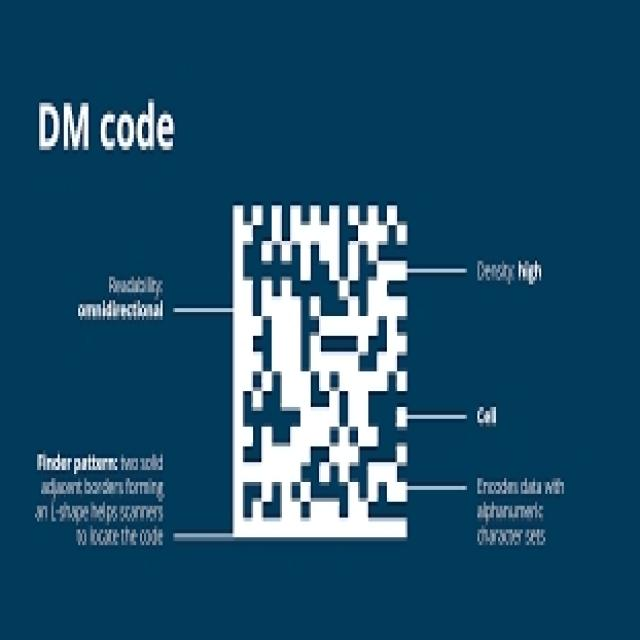datamatrix: (228, 194, 414, 549)
